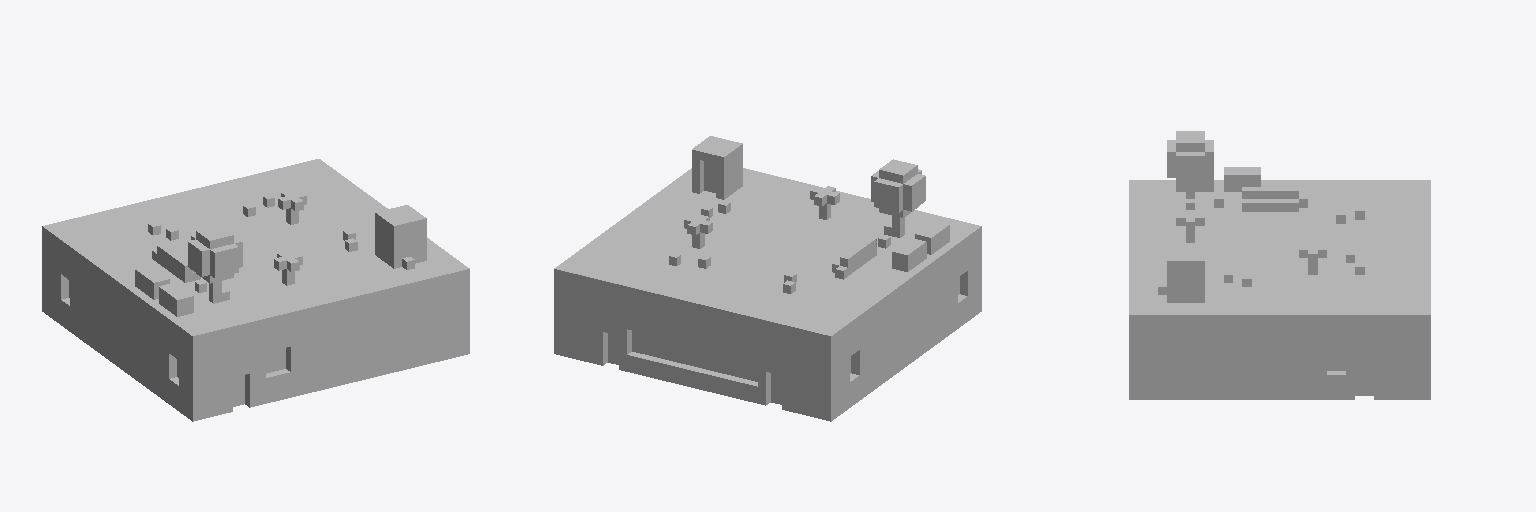
File: vrjam01_rooftopgarden_02.obj
3 views of the same model, side by side, from view 1: azimuth 30°, elevation 25°; view 2: azimuth 150°, elevation 25°; view 3: azimuth 270°, elevation 25° (orthographic).
Size of the model in its own units: 34 by 18 by 32.